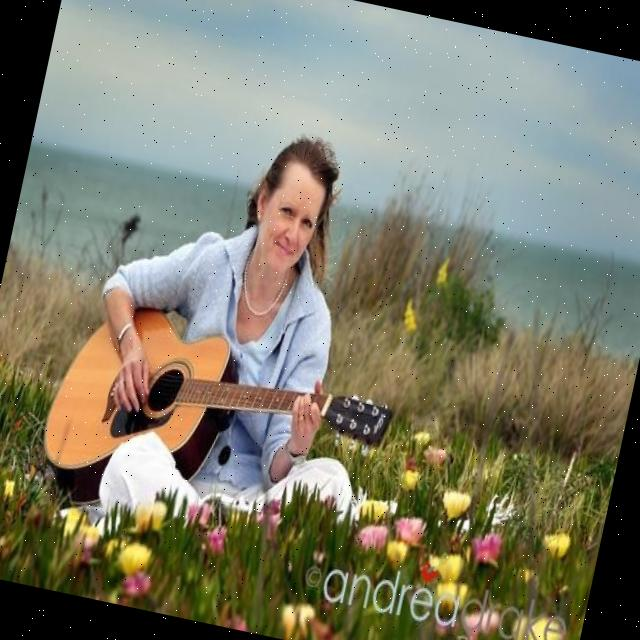guitar: (28, 288, 406, 567)
